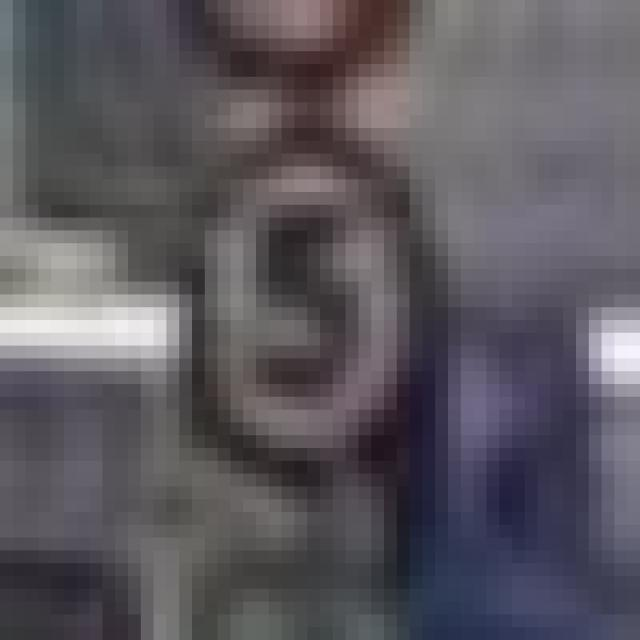speed_limit_20: (166, 115, 448, 474)
